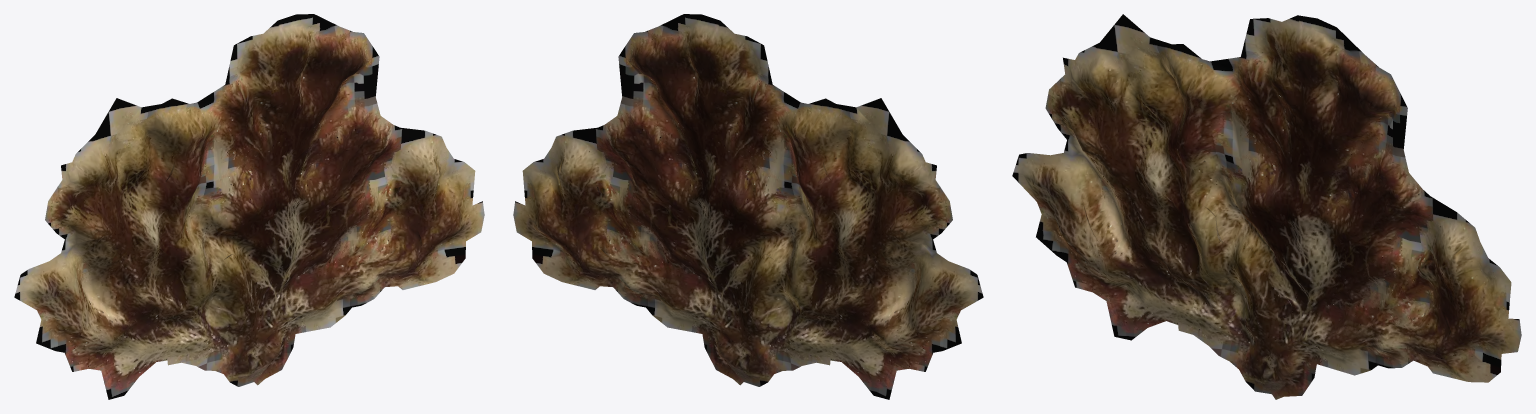
Rendered from Seaweed_B-transformed.glb.
3 renders of one model, left to right at view 1: azimuth 30°, elevation 25°; view 2: azimuth 150°, elevation 25°; view 3: azimuth 330°, elevation 25°, orthographic. The views are drawn at different scales.
Parts seen in each view (by area): view 1: Seaweed_B; view 2: Seaweed_B; view 3: Seaweed_B.
Part boxes in pixels (x1,y1,x2,y2): Seaweed_B: (14, 14, 484, 399); Seaweed_B: (513, 14, 983, 399); Seaweed_B: (1012, 14, 1521, 399).
Size of the model in its own units: 3.67 by 2.7 by 0.2909.
Materials: 1 (1 with a texture image).
